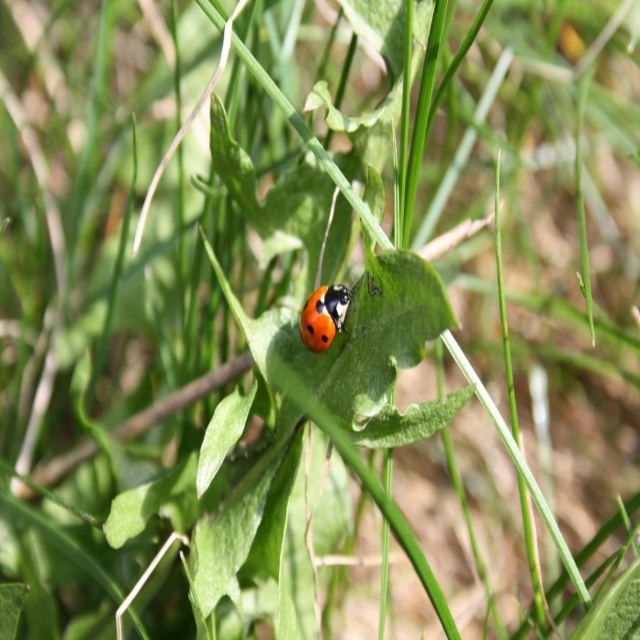Ladybug: (297, 282, 359, 354)
